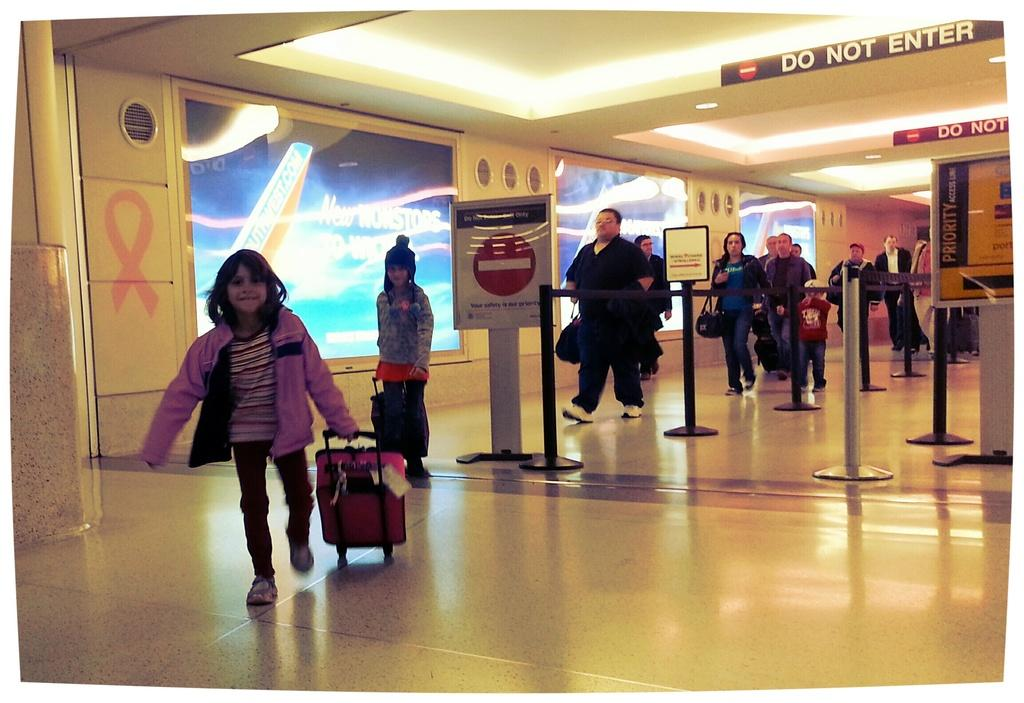Luggage-and-bags: (302, 435, 396, 583), (370, 377, 408, 451), (556, 299, 584, 364), (753, 318, 783, 376), (695, 290, 725, 338), (964, 302, 979, 347), (829, 269, 845, 302), (957, 309, 967, 359)
